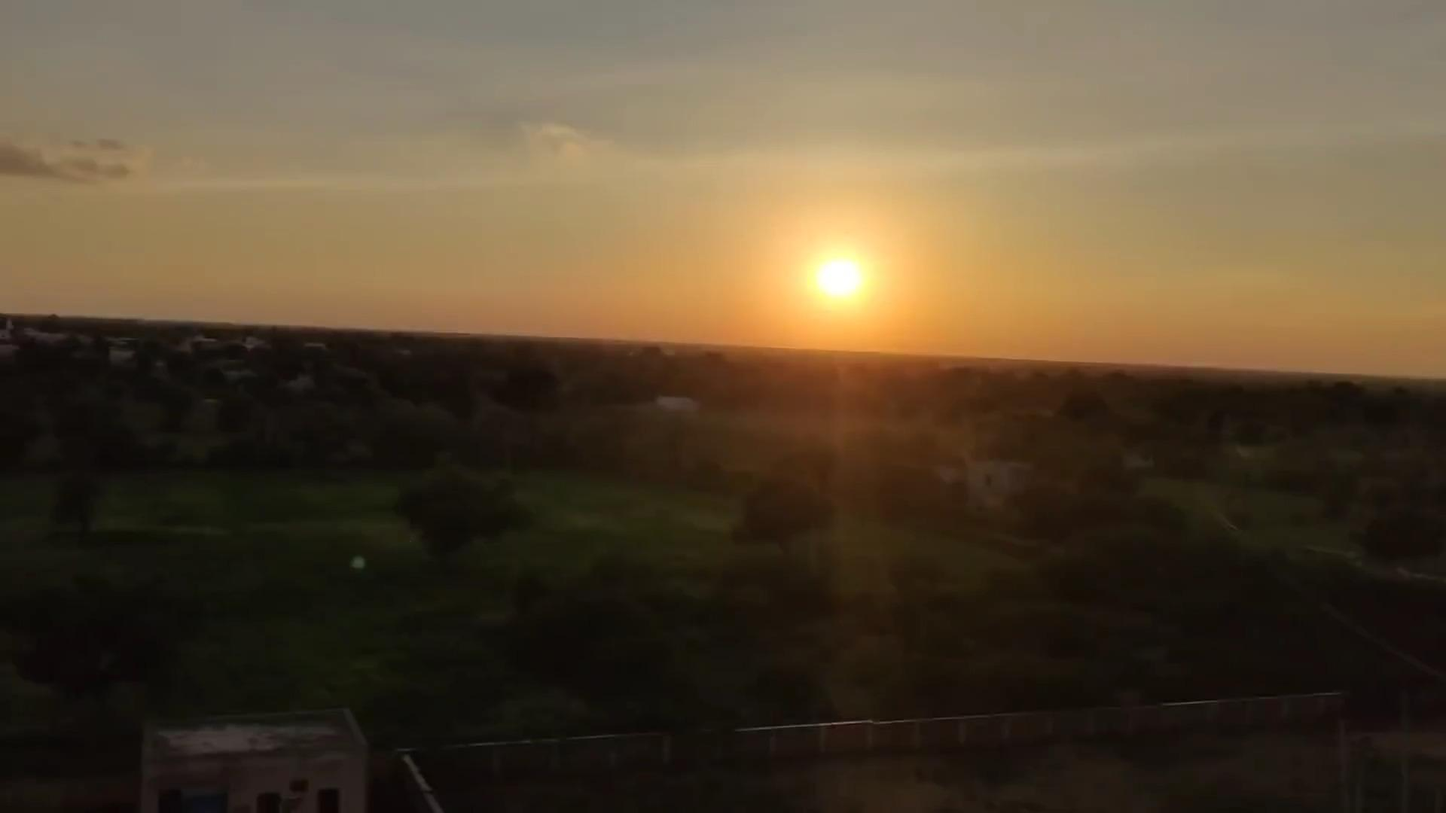FireExtinguisher: (783, 234, 887, 338)
